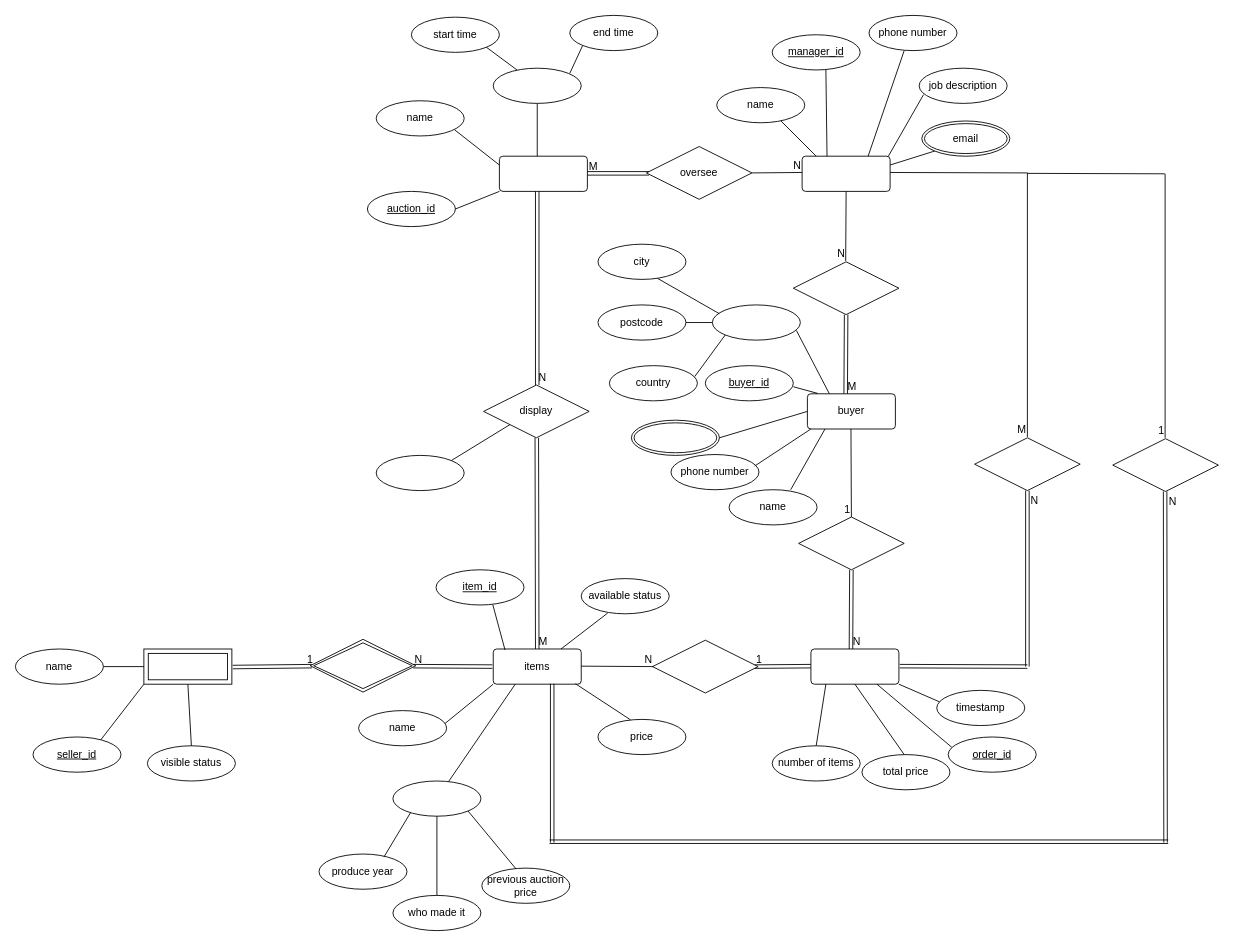
This 1234x946 diagram has some shape labels left out. The shapes that lost their labels are listed below. From the top down, each one's box as (x1, y1, x2, y2) in pixels, then its label:
(492, 67, 581, 103): duration
(499, 155, 587, 191): auction
(801, 155, 890, 191): manager
(792, 261, 899, 315): invite
(711, 304, 800, 340): address
(631, 419, 719, 455): payment method
(375, 455, 464, 491): number of items displayed
(974, 437, 1080, 491): sign
(1112, 438, 1218, 491): responsible
(798, 516, 904, 570): place
(143, 648, 232, 684): seller
(309, 638, 416, 692): provide
(652, 639, 758, 693): contain
(810, 648, 899, 684): orders
(392, 780, 481, 816): description
